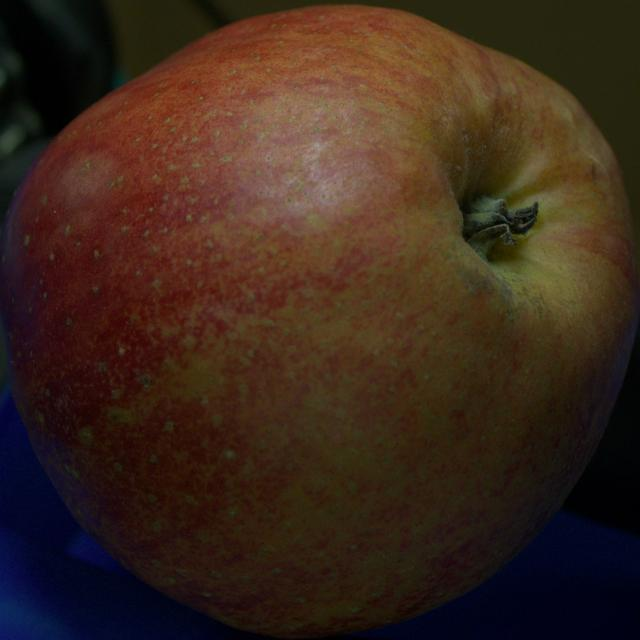apple: (0, 6, 639, 638)
